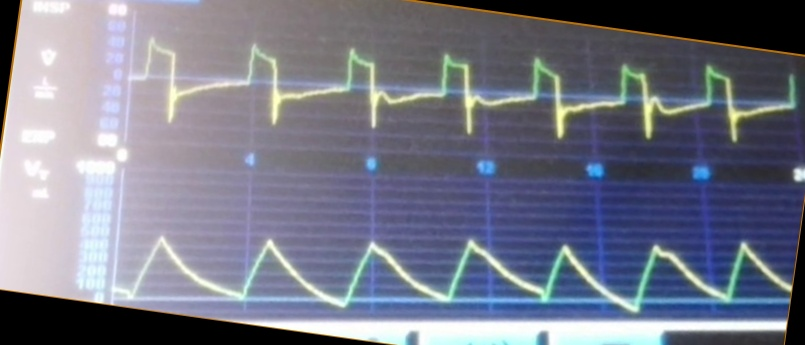Premature_cycling Flow: (132, 35, 795, 145)
Premature_cycling Volume: (120, 231, 788, 314)
